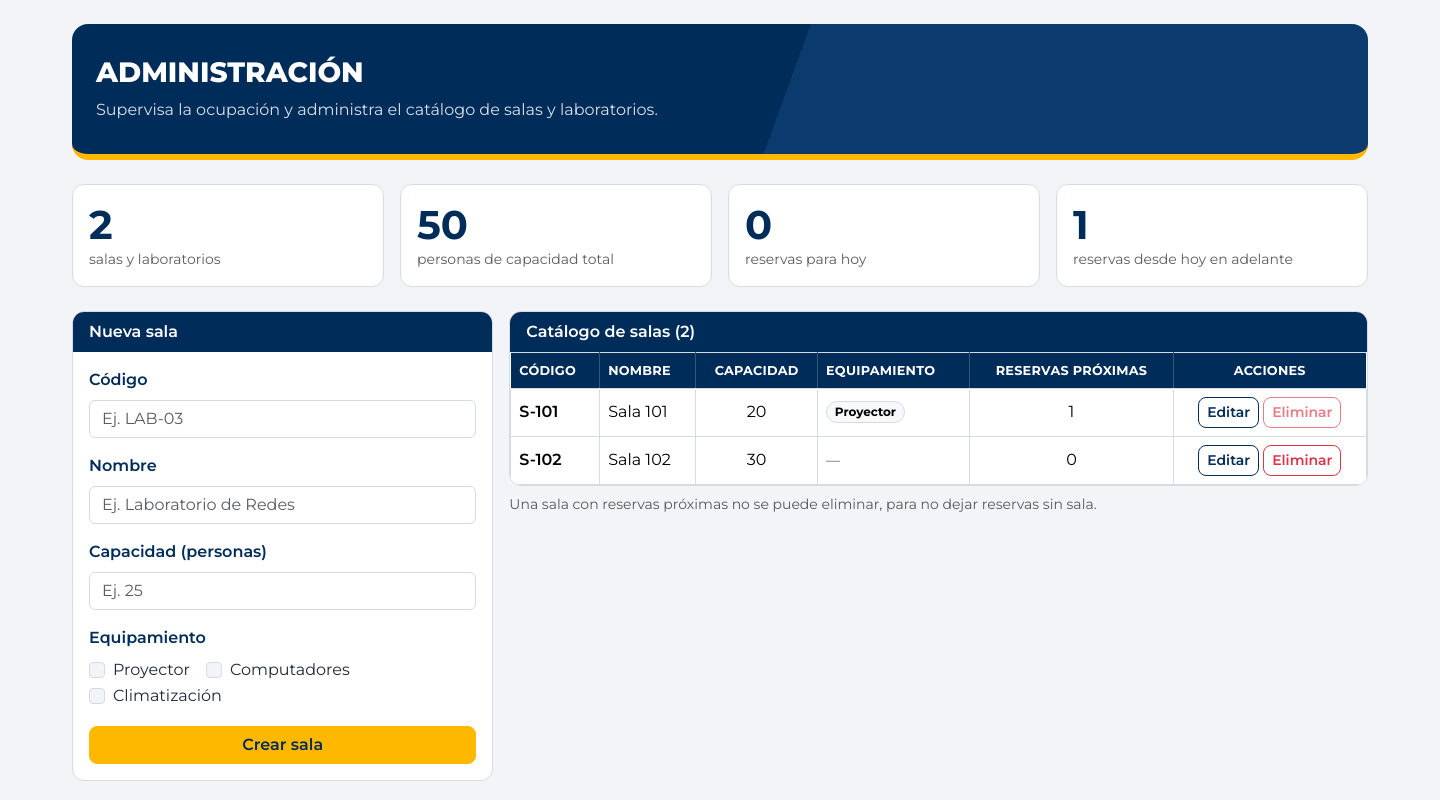
Test: Página Administración › edita una sala existente
Click the button with aria-label "Editar Sala 102" at (1229, 460), box [1198, 445, 1259, 476]
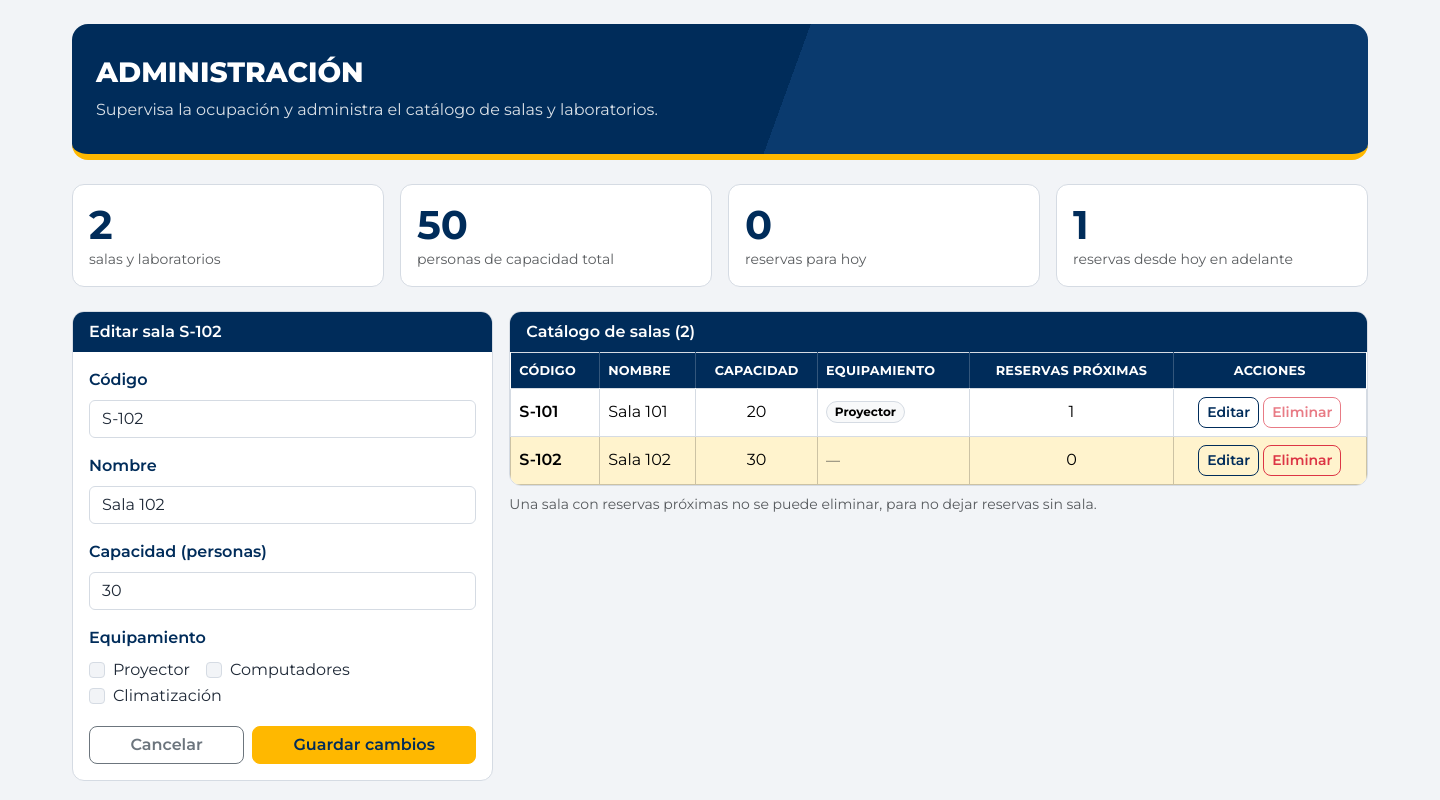
Replace the text in the number field labelled "Capacidad (personas)" with "35" at (283, 591), box [89, 572, 476, 610]
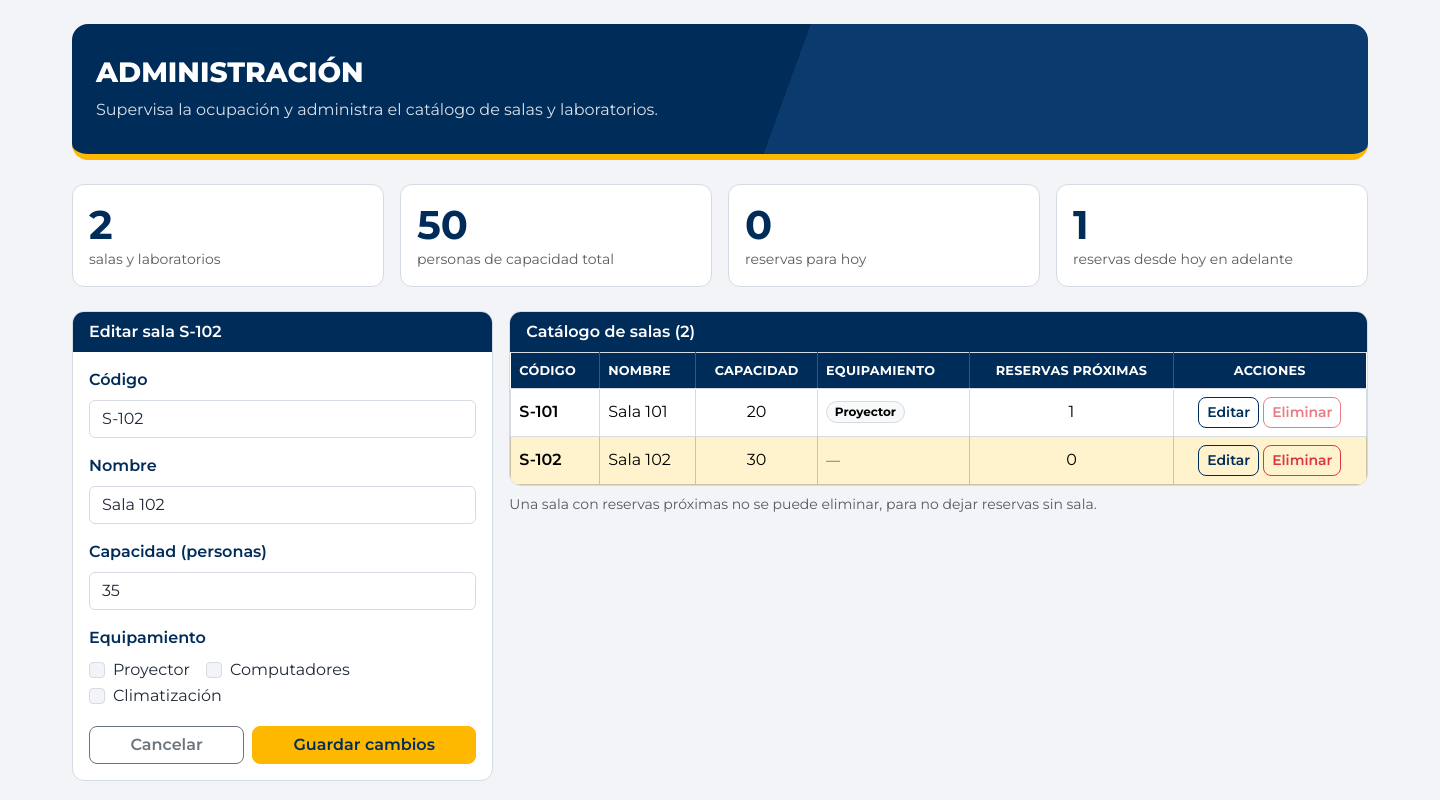
Click the button "Guardar cambios" at (364, 745), box [252, 726, 476, 764]
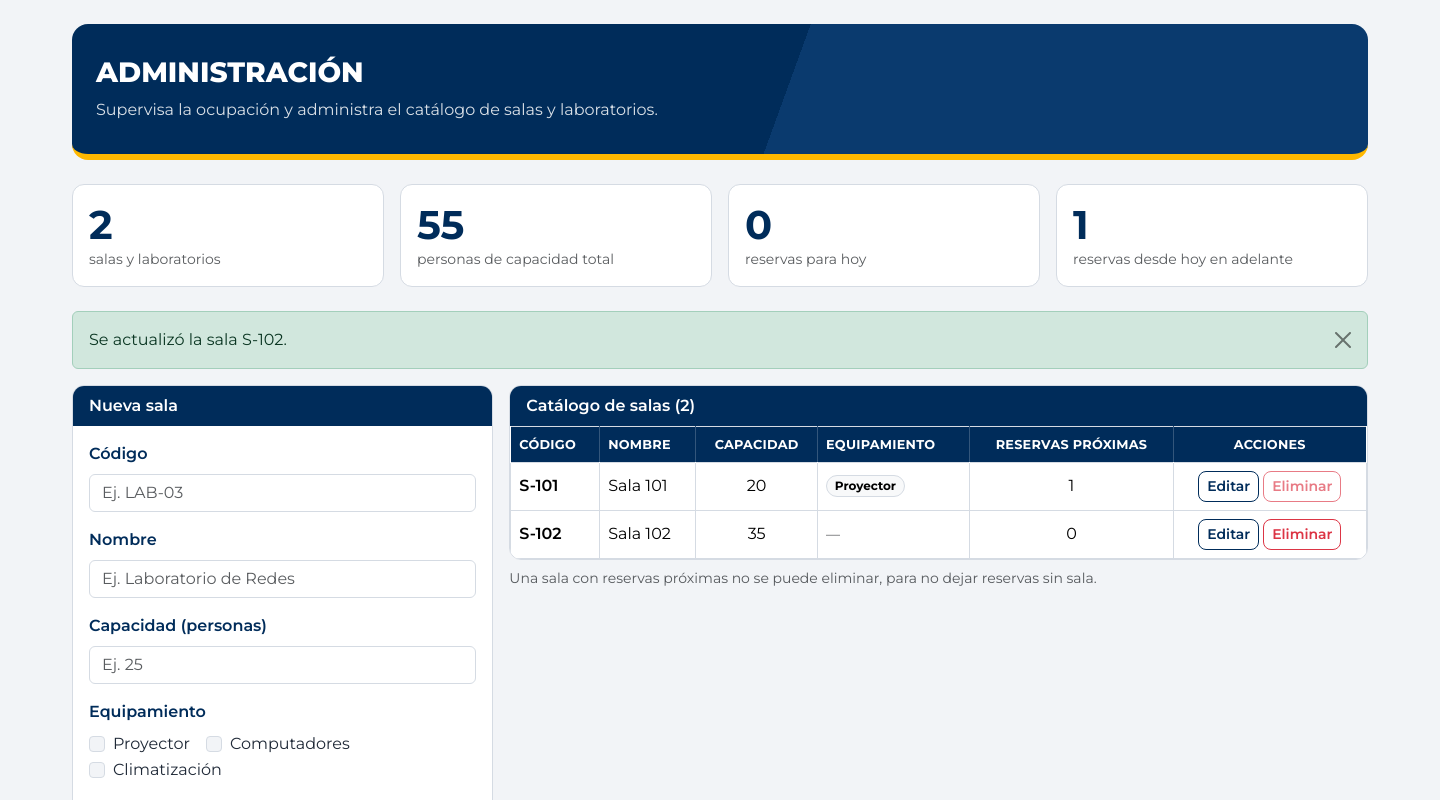
Result: the text "Se actualizó la sala S-102." is shown at [72, 311, 1368, 369]
